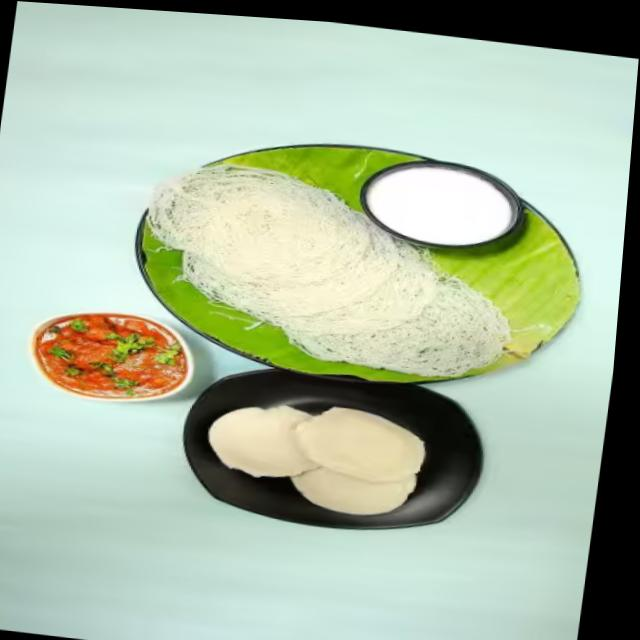CURRY: (35, 321, 179, 396)
IDIYAPPAM: (159, 170, 504, 374)
IDLI: (216, 405, 421, 515)
